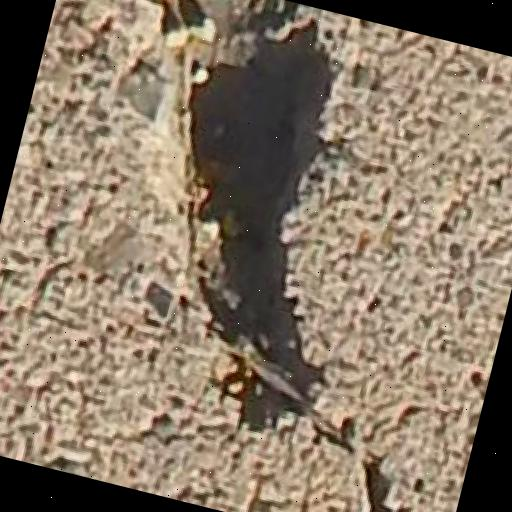spalling: (105, 0, 411, 512)
